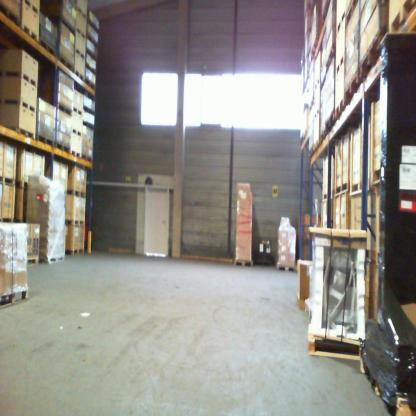pallet: (358, 27, 406, 82), (308, 322, 367, 361), (343, 67, 383, 108), (384, 0, 416, 37), (2, 68, 39, 91), (0, 283, 29, 312), (0, 97, 37, 115), (0, 1, 21, 29), (9, 126, 36, 144), (335, 96, 352, 124), (21, 22, 41, 44), (324, 111, 340, 138), (345, 0, 360, 28), (38, 41, 57, 63), (38, 253, 65, 267), (39, 132, 56, 151), (372, 163, 386, 186), (58, 54, 73, 75), (22, 0, 40, 17), (53, 103, 73, 118), (276, 260, 297, 274), (333, 179, 349, 197), (336, 9, 346, 37), (335, 55, 346, 79), (54, 142, 71, 157), (64, 246, 86, 257), (75, 47, 87, 66), (25, 253, 40, 268), (349, 180, 363, 196), (63, 189, 86, 198), (73, 68, 85, 85), (0, 175, 16, 187), (76, 4, 87, 21), (71, 145, 84, 159), (64, 219, 86, 227), (85, 78, 96, 94), (234, 259, 253, 268), (15, 176, 29, 188), (75, 27, 86, 40), (72, 106, 83, 118), (71, 129, 83, 138), (313, 78, 321, 91), (312, 141, 322, 151), (313, 108, 321, 120), (308, 148, 316, 159), (0, 217, 14, 223), (83, 154, 92, 162), (322, 193, 328, 203)
